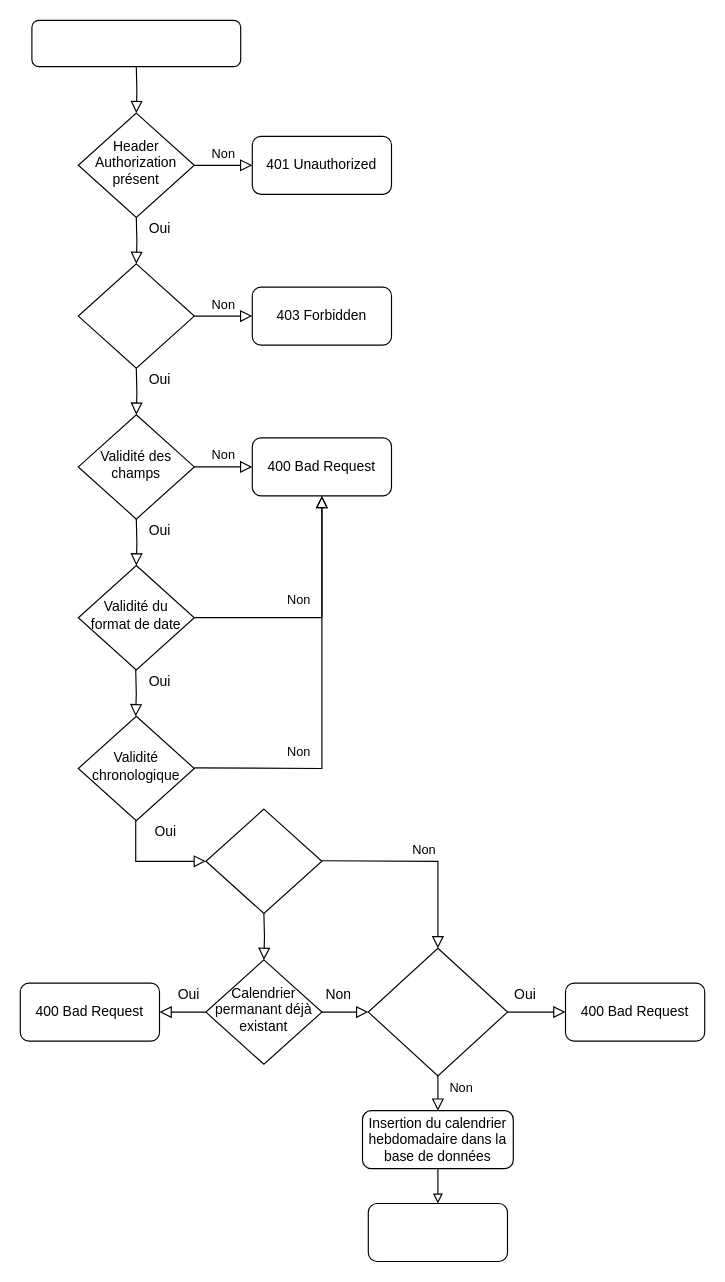
Image size: 725x1282. Some labels were removed from this diagram. Here are the shapes that lost their labels. From the top down, the centre of each, then its label:
At pixel 136 43: "POST api/v1/WeeklySchedules".
At pixel 135 315: "Utilisateur administrateur".
At pixel 263 860: "Calendrier permanant".
At pixel 437 1011: "Chevauchement de date".
At pixel 437 1232: "201 Created".
